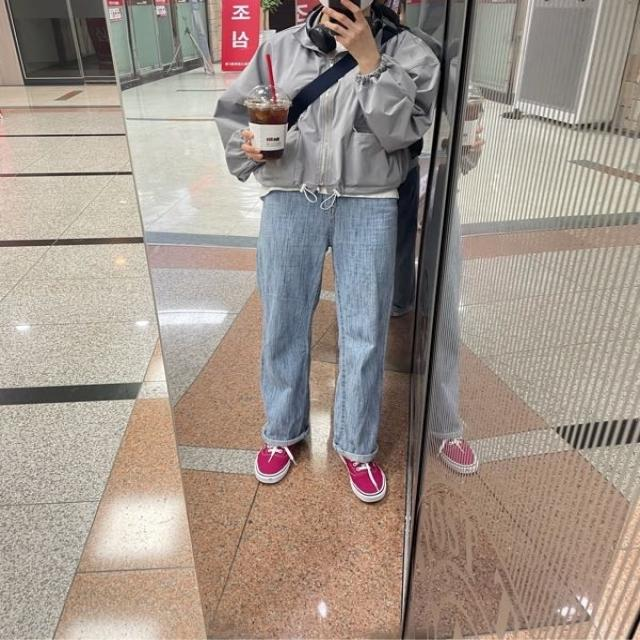denimpants: (258, 184, 399, 456)
jacket: (220, 10, 445, 198)
